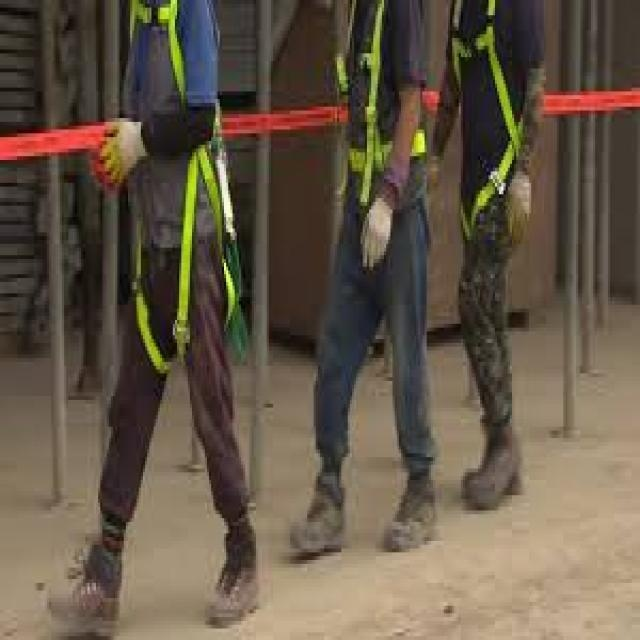Arnes_seguridad: (121, 0, 249, 370), (335, 0, 443, 287), (450, 0, 543, 249)
